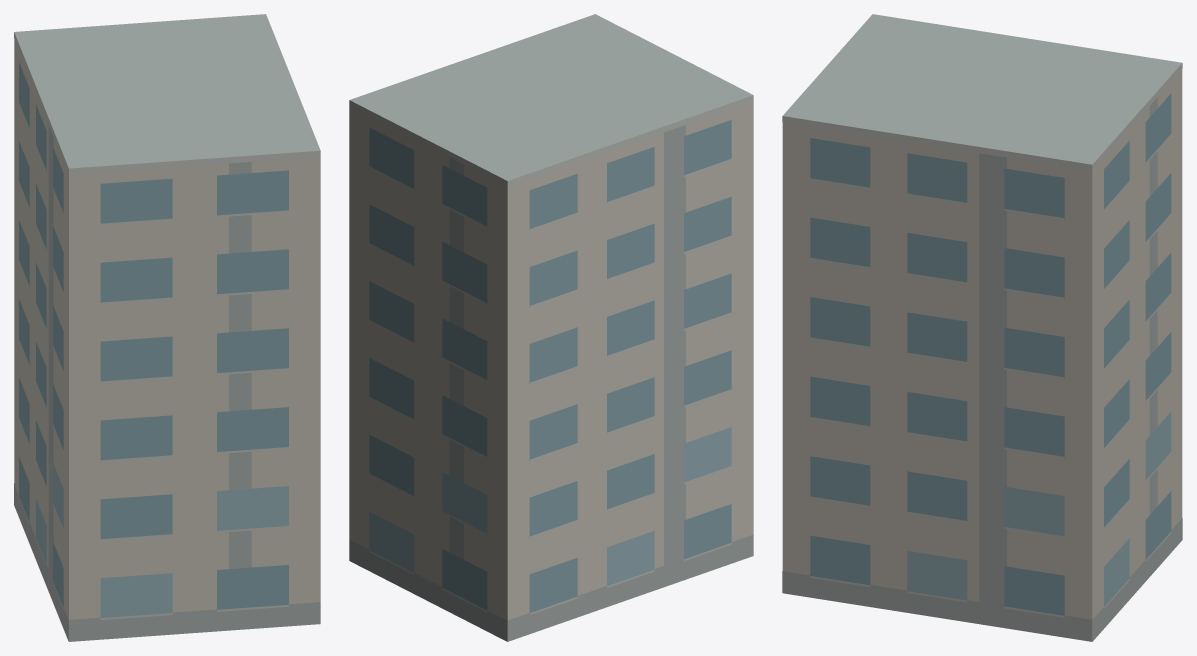
The model's file is survey-upis-32989051.glb.
The picture shows the model from 3 angles, left to right: view 1: azimuth 30°, elevation 25°; view 2: azimuth 150°, elevation 25°; view 3: azimuth 270°, elevation 25°; orthographic projection. The views are drawn at different scales.
Parts seen in each view (by area): view 1: survey-upis-32989051.tmp; view 2: survey-upis-32989051.tmp; view 3: survey-upis-32989051.tmp.
Boxes of the visible parts, left/top/right/bottom form: survey-upis-32989051.tmp: left=14, top=14, right=320, bottom=641; survey-upis-32989051.tmp: left=349, top=14, right=753, bottom=641; survey-upis-32989051.tmp: left=782, top=14, right=1182, bottom=641.
Size of the model in its own units: 12.54 by 18.5 by 14.06.
